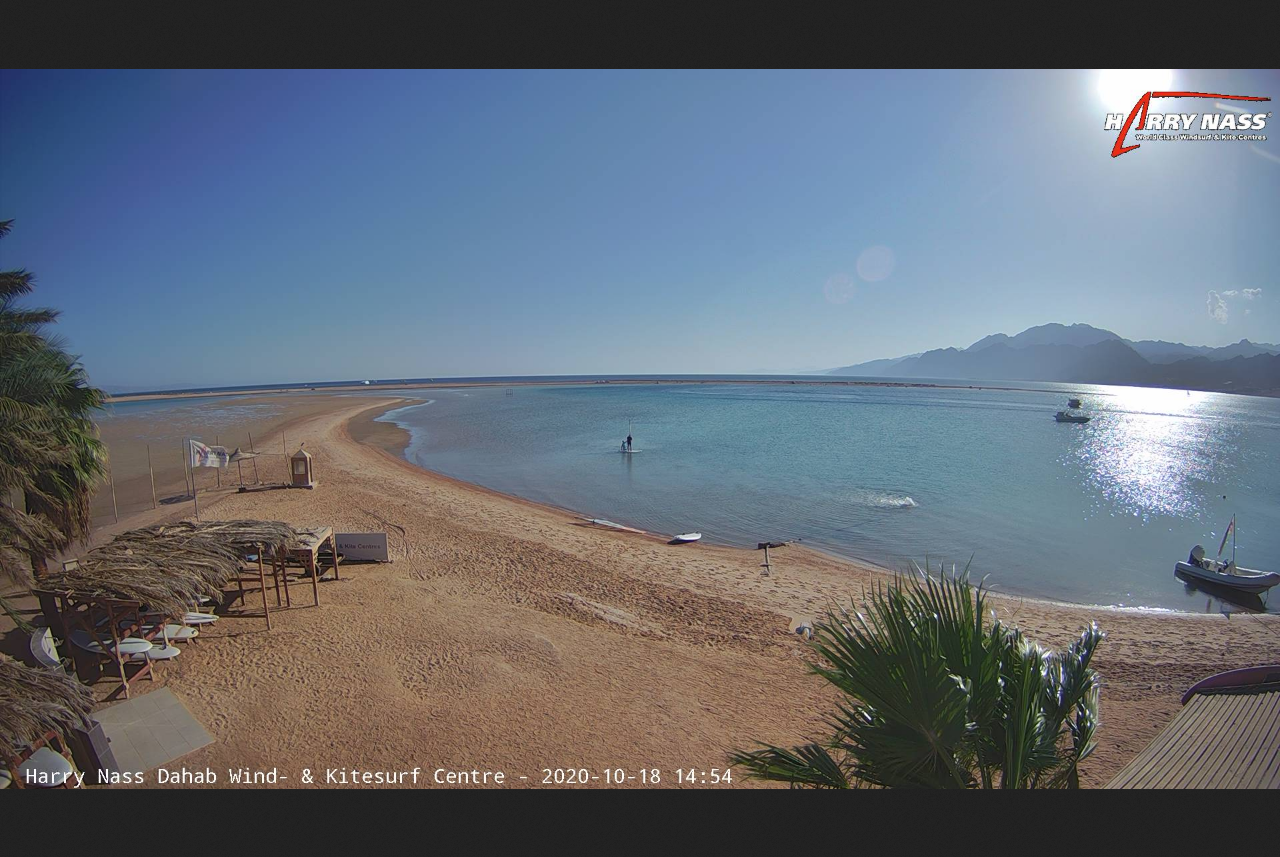yes: (183, 436, 234, 470)
